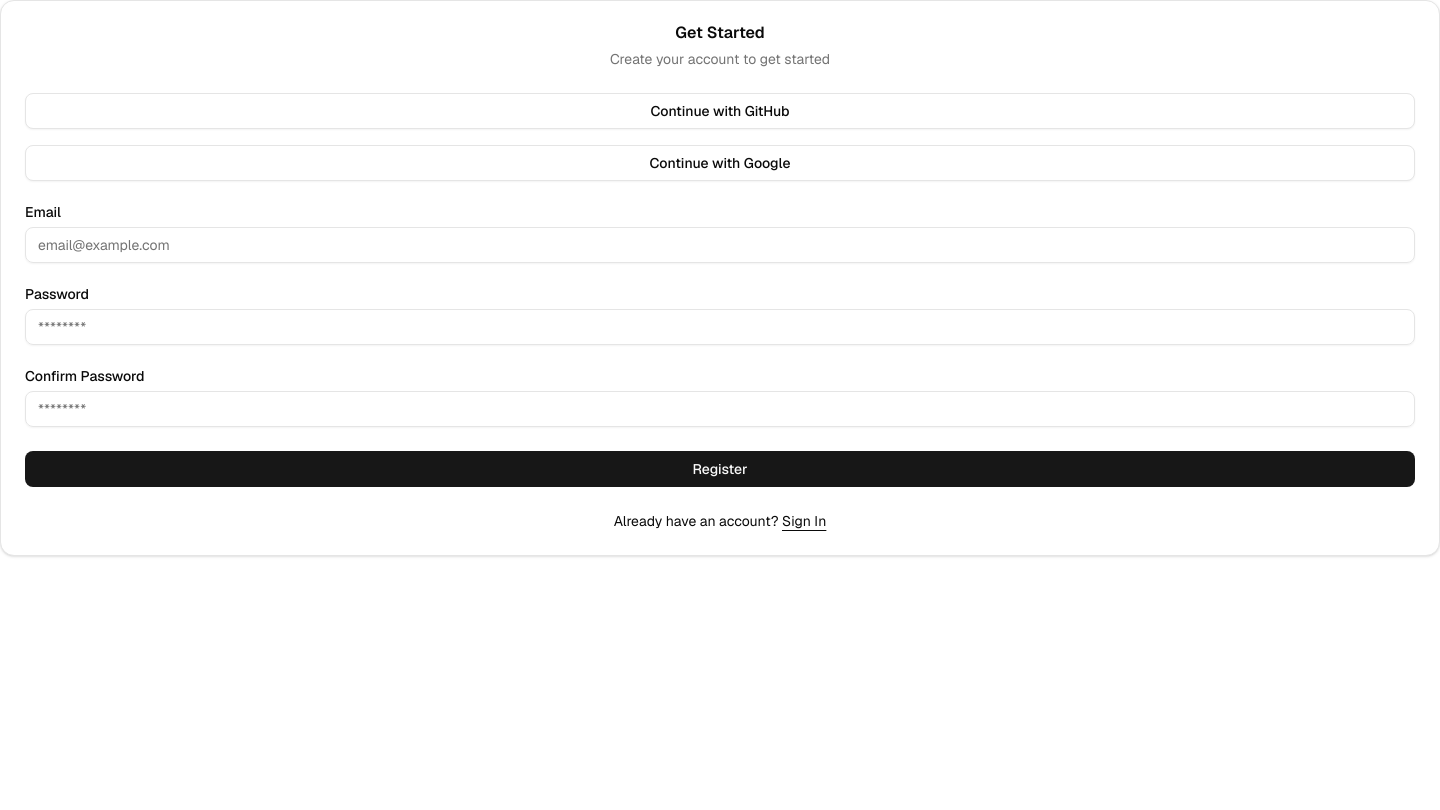
Test: RegisterForm Component › returns error messages if the form submission is not valid
Click the button "Register": {"x": 720, "y": 469} [25, 451, 1415, 487]
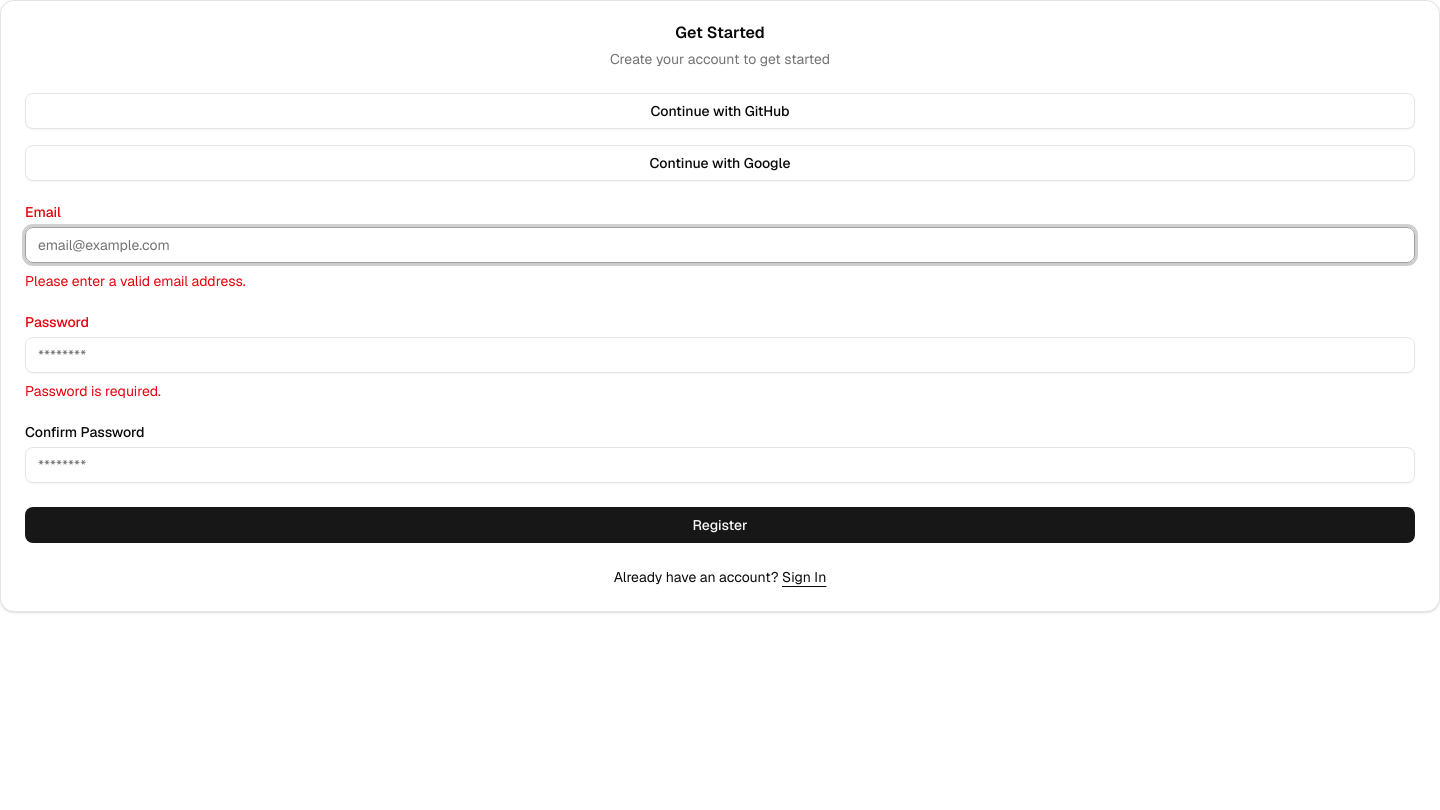
Expected: the text "Please enter a valid email address." is shown, [25, 272, 246, 290]
Expected: the text "Password is required." is shown, [25, 382, 161, 400]
